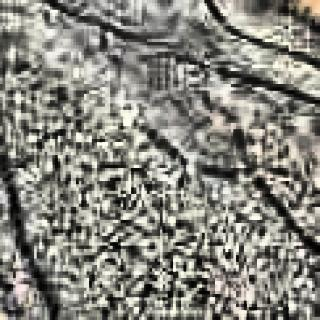crack: (230, 118, 318, 254), (0, 148, 60, 320), (133, 106, 221, 192), (44, 0, 170, 58), (200, 0, 320, 60), (175, 61, 320, 100)
